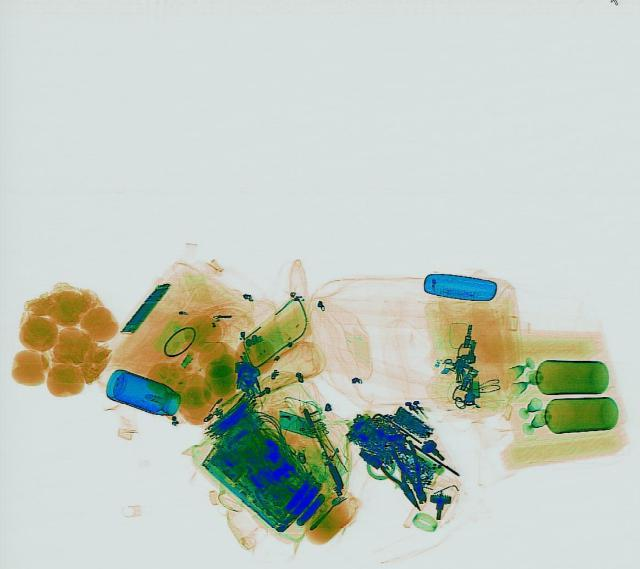Pliers: (375, 451, 433, 515), (386, 438, 436, 504)
